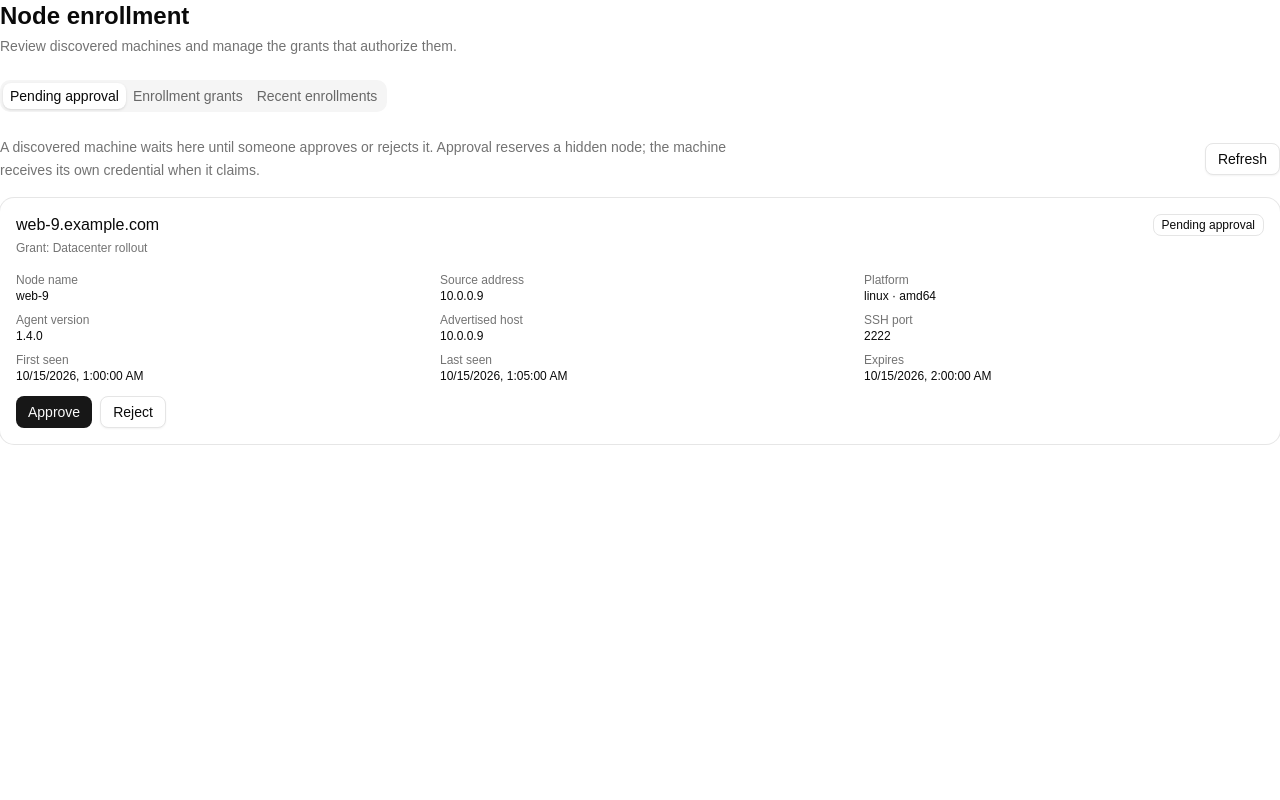
Test: node enrollment workspace › rejects a machine with a bounded reason code
This screenshot has width=1280, height=800.
Click the button "Reject": (133, 412) [100, 396, 166, 428]
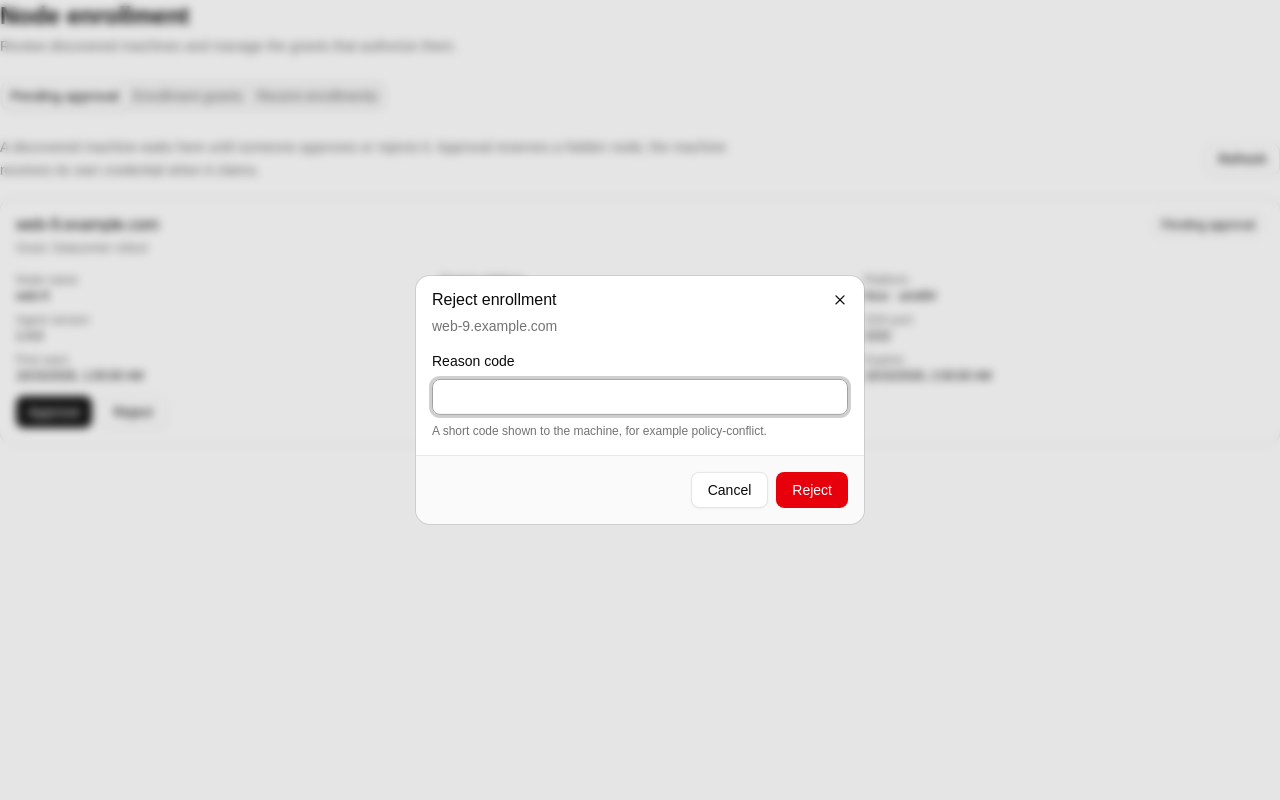
In the field labelled "Reason code": (640, 397) [432, 379, 848, 415], type "policy-conflict"
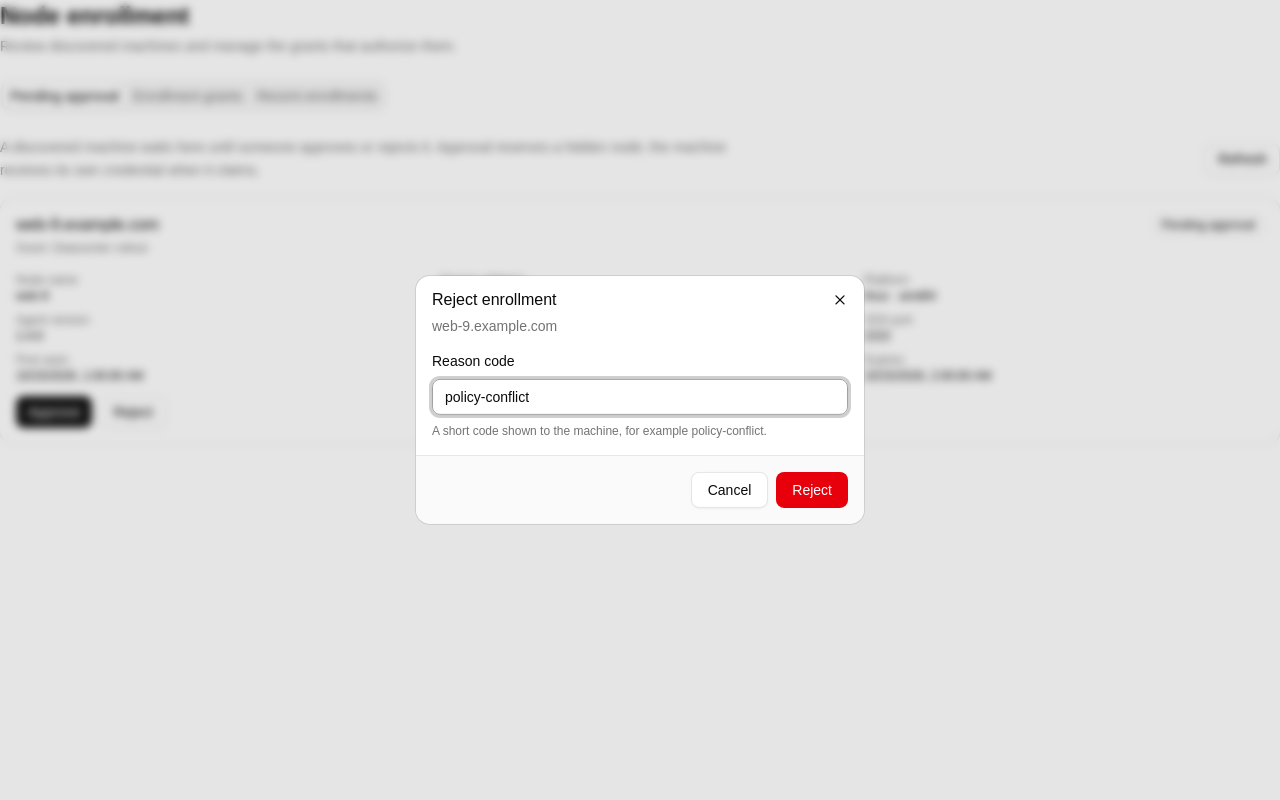
Click the button "Reject": (812, 490) [776, 472, 848, 508]
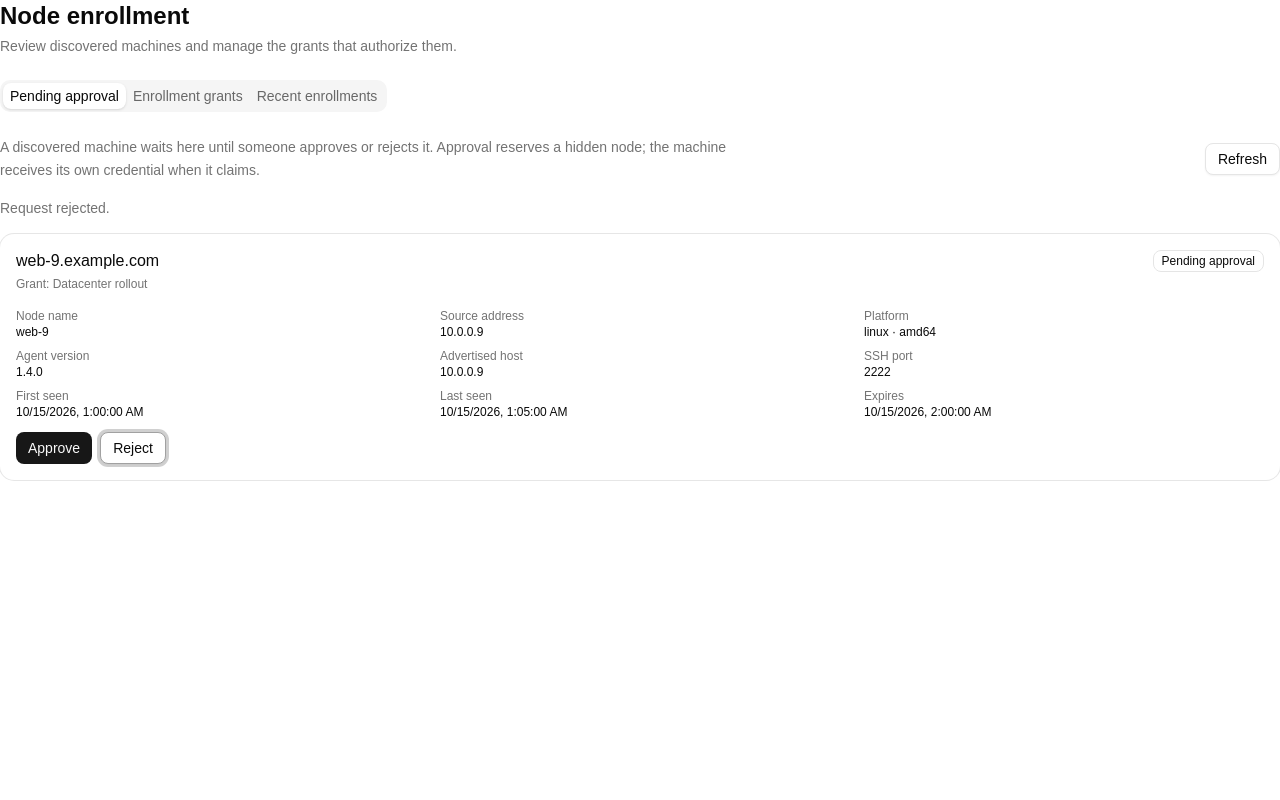
Now the message reads "Request rejected.", box [0, 200, 110, 216]
